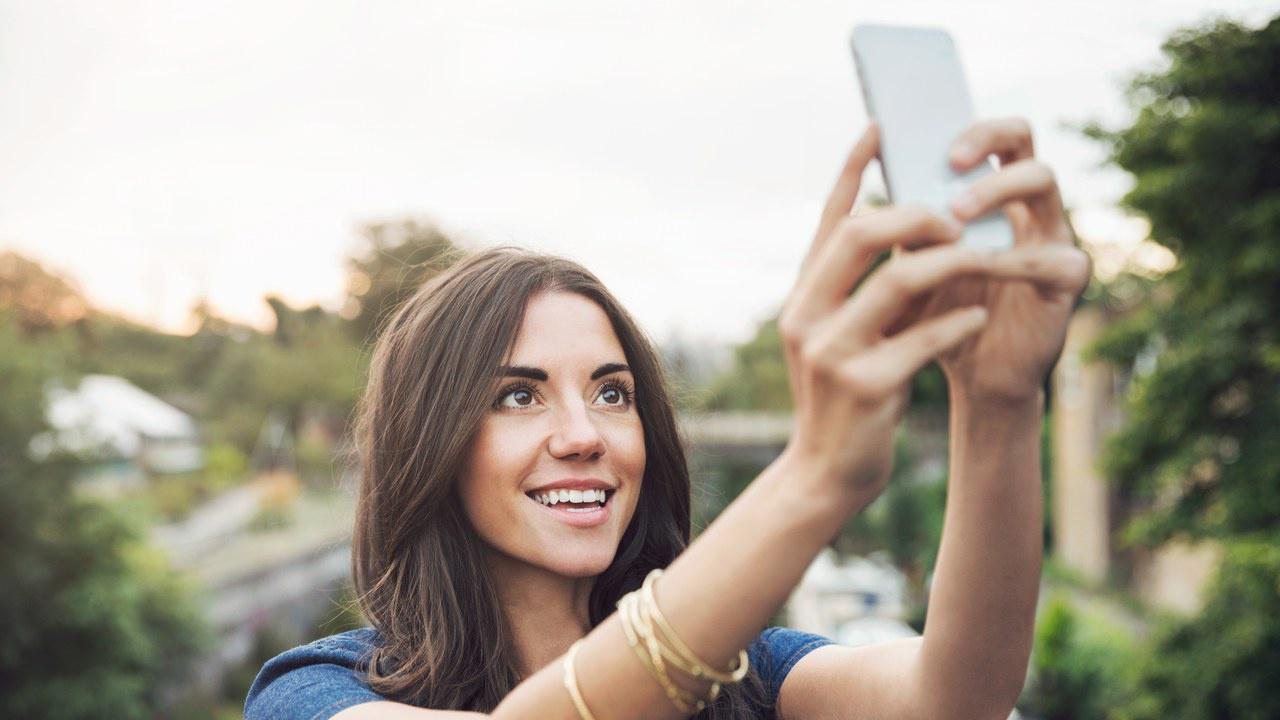face: (454, 291, 648, 581)
